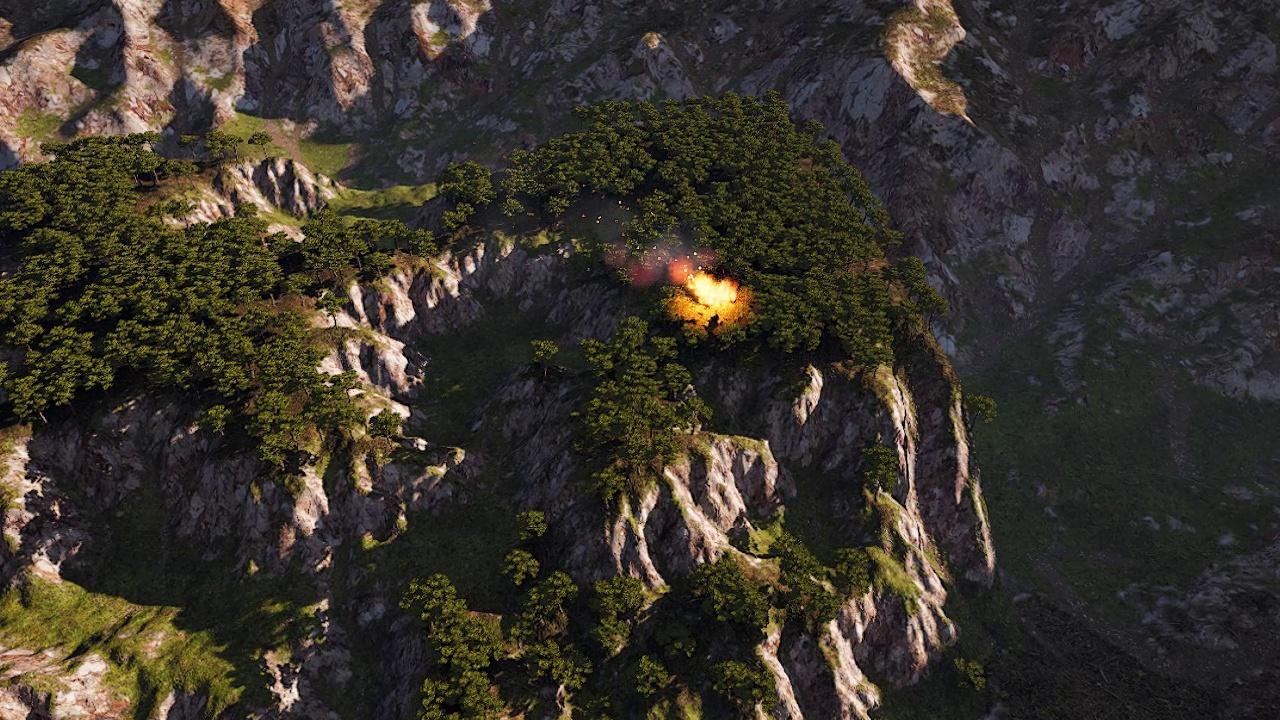fire: (685, 271, 739, 316)
smoke: (602, 228, 710, 288)
